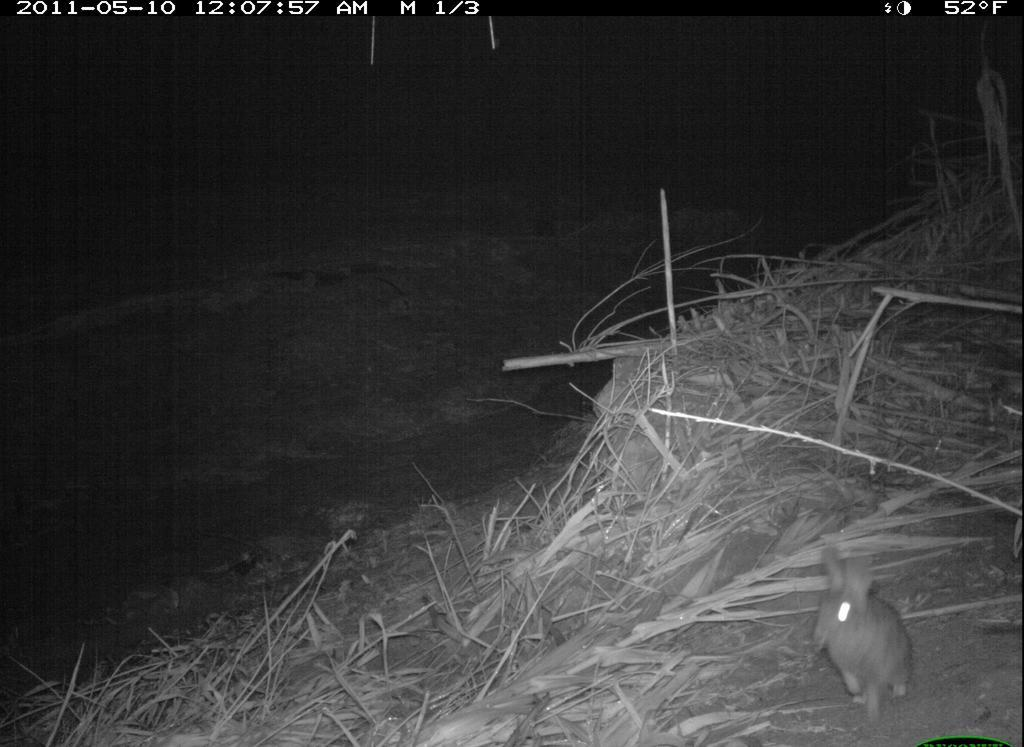rabbit: (786, 540, 927, 719)
